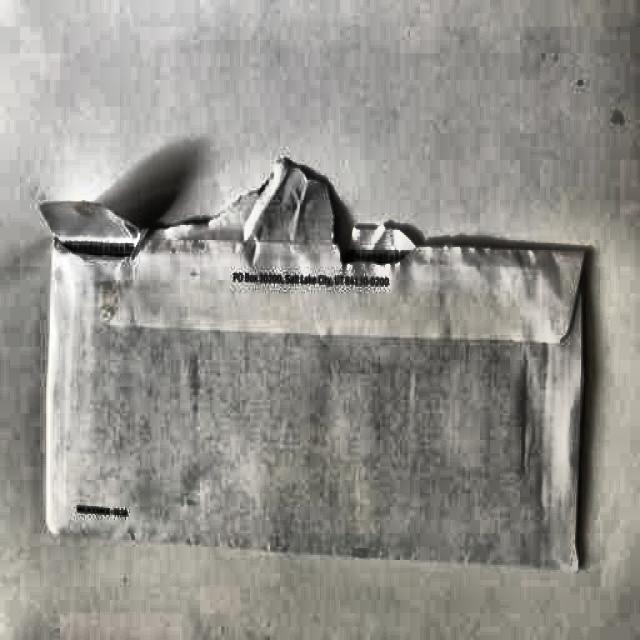paper: (26, 157, 591, 577)
